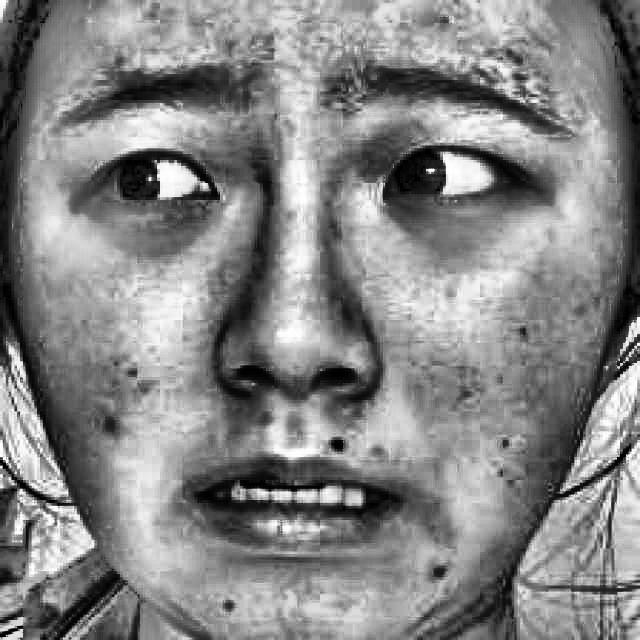fear: (73, 56, 556, 566)
